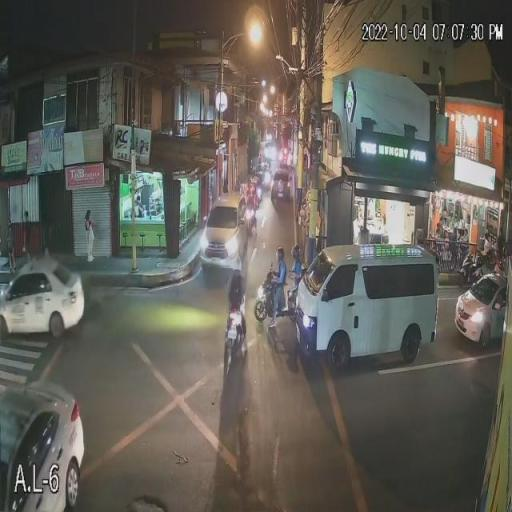helmet: (228, 257, 243, 273), (290, 246, 303, 262), (273, 247, 285, 264)
motorcycle: (255, 272, 299, 326), (219, 302, 248, 362)
rider: (227, 274, 244, 318), (274, 262, 287, 305), (290, 259, 301, 290)
